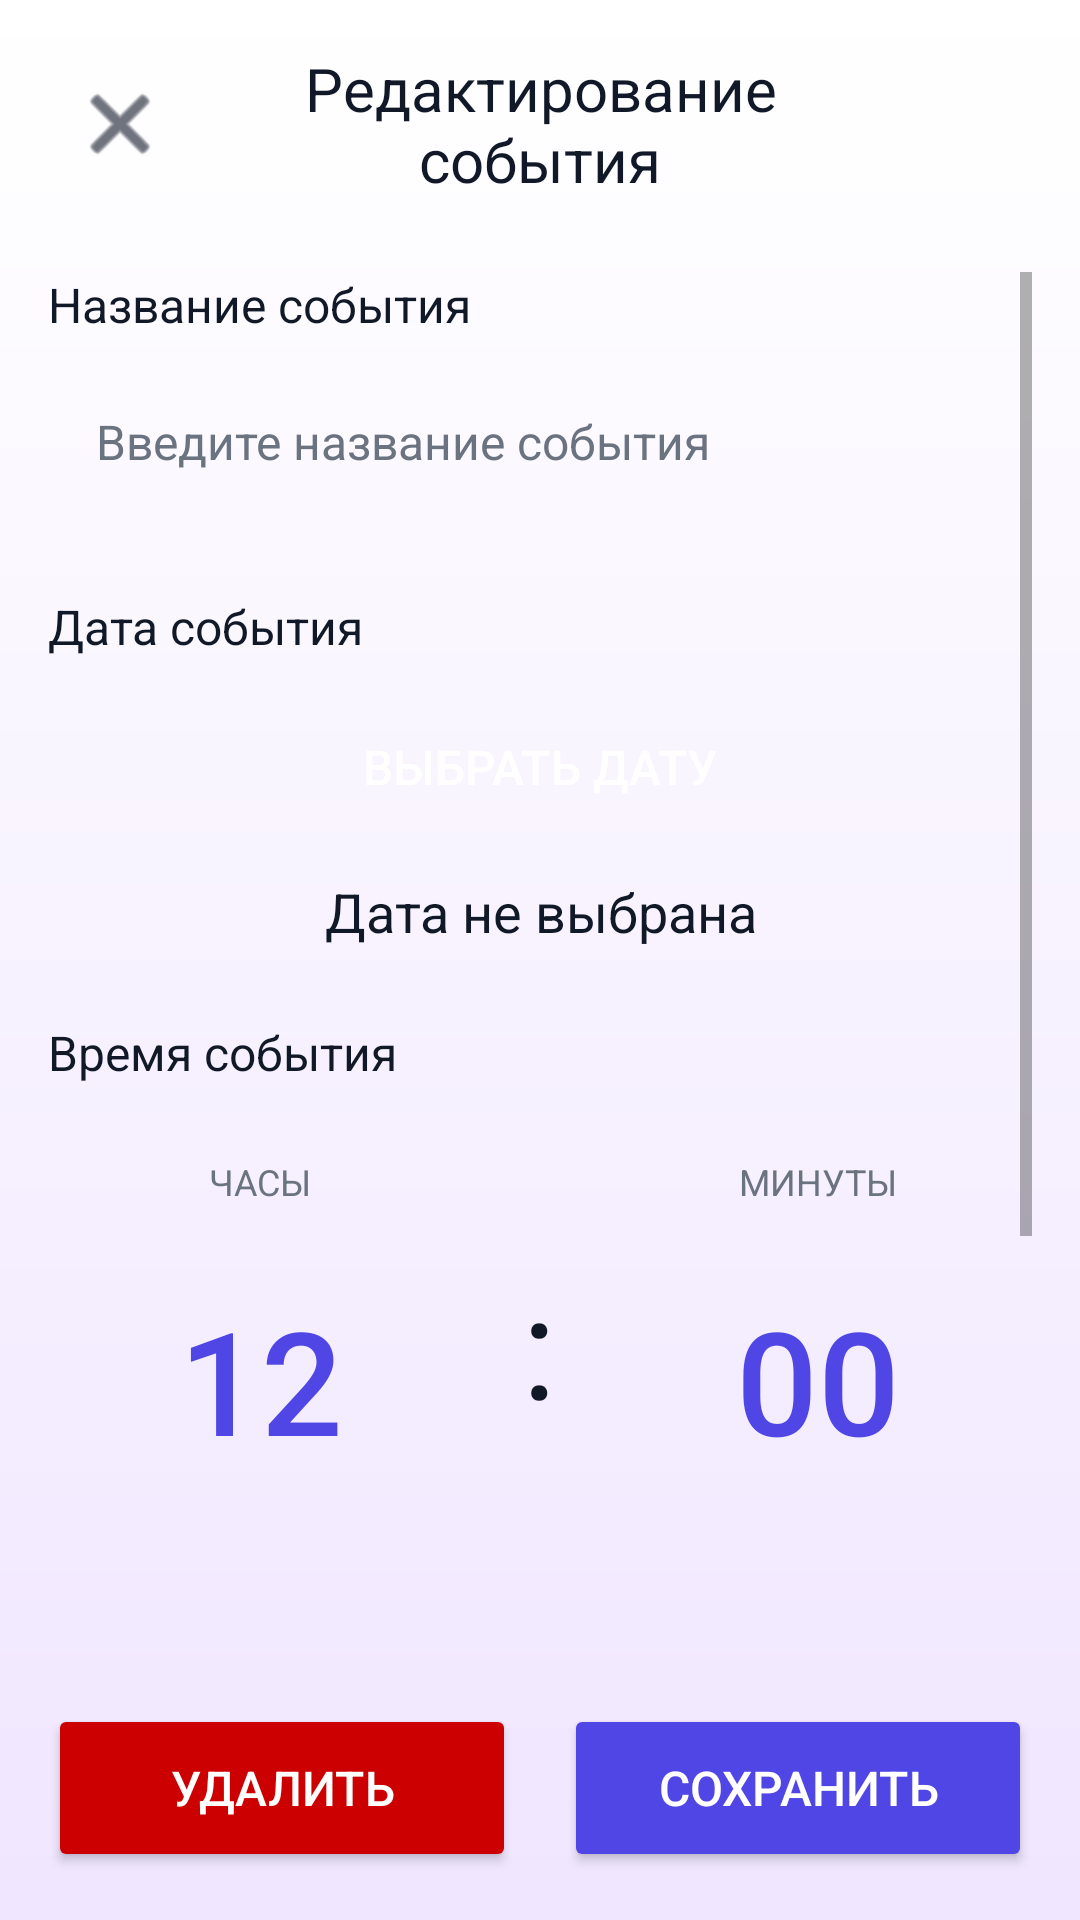

Icons on this 1080×1920 Android screen, each with the point to tap as (x=x, y=y):
Назад: (x=120, y=124)
